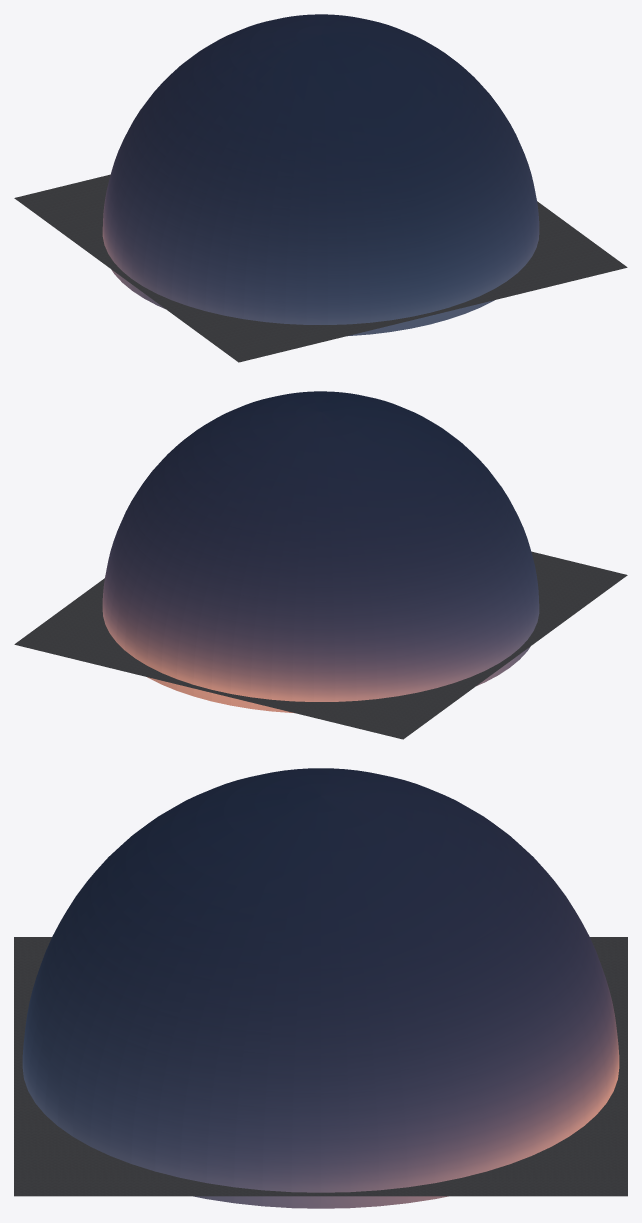
Rendered from NightCircuit.glb.
3 renders of one model, top to bottom at view 1: azimuth 30°, elevation 25°; view 2: azimuth 150°, elevation 25°; view 3: azimuth 270°, elevation 25°, orthographic. The views are drawn at different scales.
Visible parts, largest first — view 1: Sky, Asphalt; view 2: Sky, Asphalt; view 3: Sky, Asphalt.
Part boxes in pixels (x1,y1,x2,y2): Sky: (102,14,539,336); Asphalt: (14,174,627,362); Sky: (102,391,539,713); Asphalt: (14,551,627,739); Sky: (22,768,619,1208); Asphalt: (14,937,627,1196).
Bounding box in the file's own units: 1440 × 742 × 1440.
Materials: 54 (14 with a texture image).
